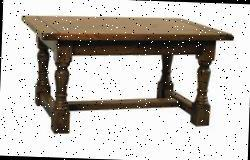Mesa: (18, 15, 231, 139)
